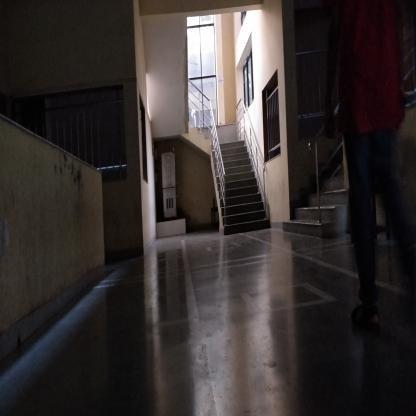stairs: (227, 181, 257, 245)
